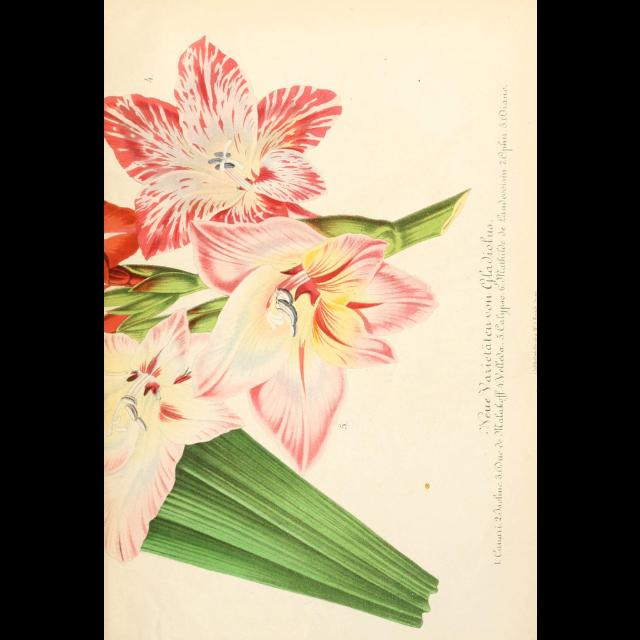Flower: (188, 219, 436, 471), (104, 43, 370, 255), (103, 308, 245, 560), (104, 202, 142, 288)
